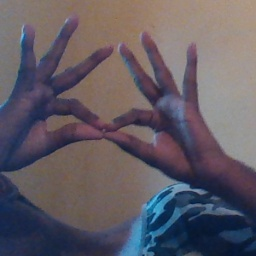B: (31, 72, 167, 174)
